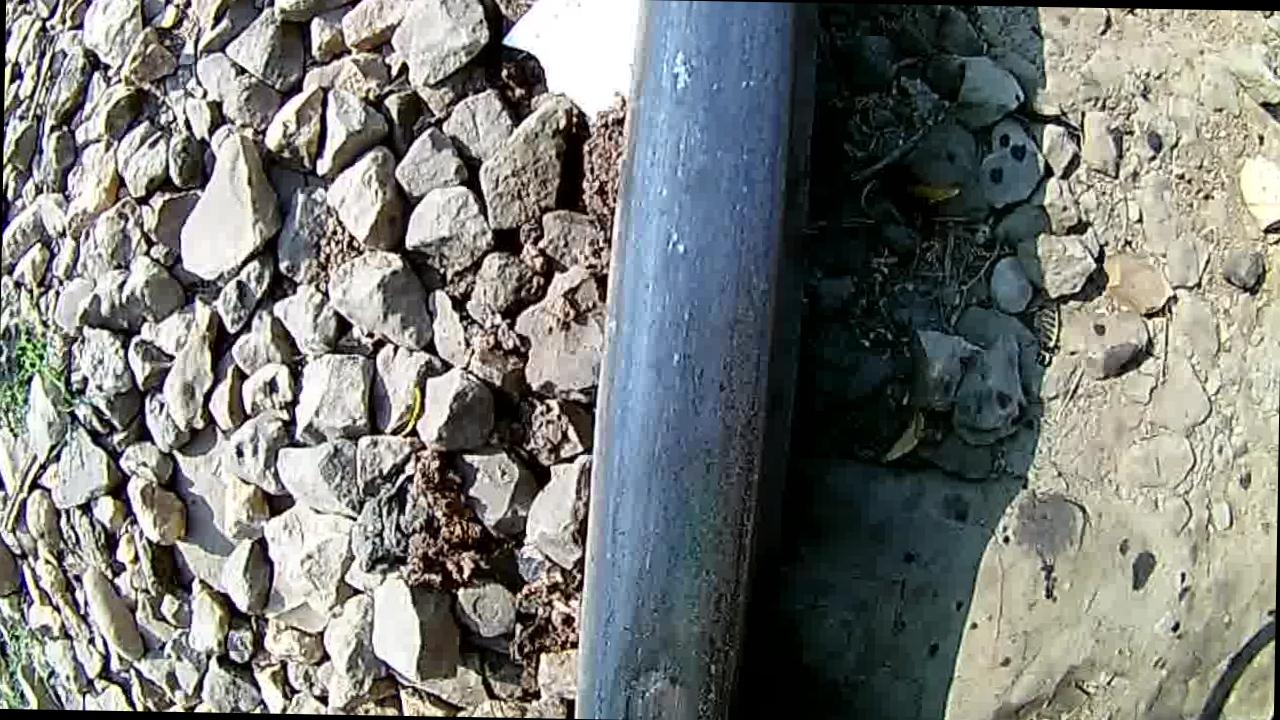bolt_missing: (591, 522, 750, 720)
